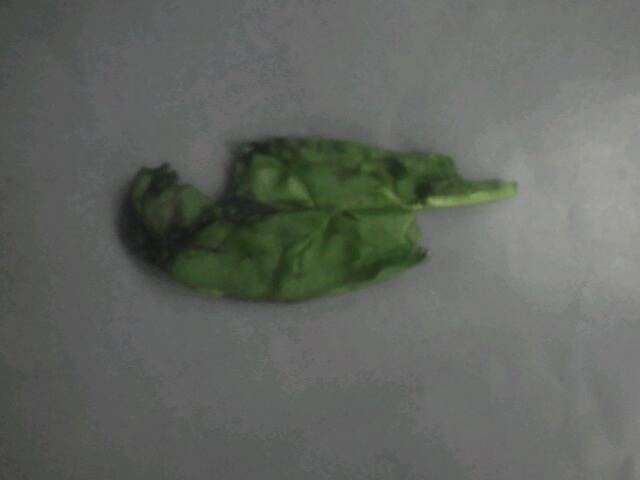yellow: (108, 126, 531, 310)
